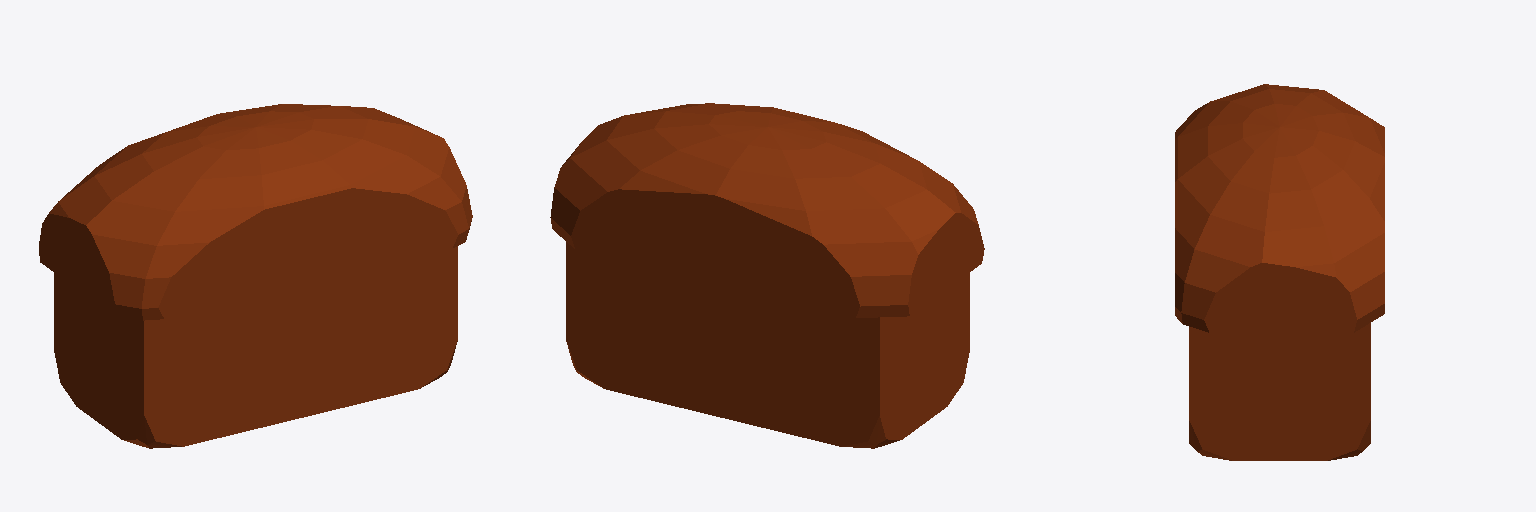
File: bread.obj
The picture shows the model from 3 angles: view 1: azimuth 30°, elevation 25°; view 2: azimuth 150°, elevation 25°; view 3: azimuth 270°, elevation 25°; orthographic projection.
Visible parts, largest first — view 1: Cube; view 2: Cube; view 3: Cube.
Part boxes in pixels (x1,y1,x2,y2): Cube: (39,104,472,448); Cube: (550,103,984,448); Cube: (1175,84,1384,460).
Bounding box in the file's own units: 1.82 × 1.25 × 0.9252.